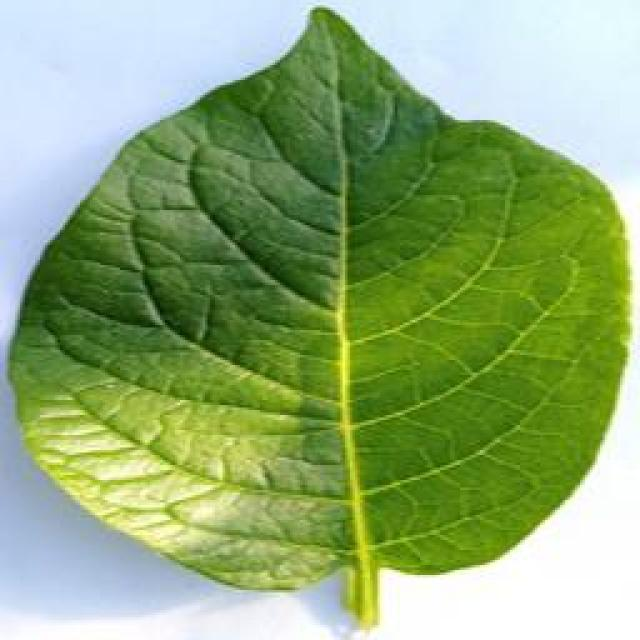Potato_Healthy: (6, 2, 633, 627)
